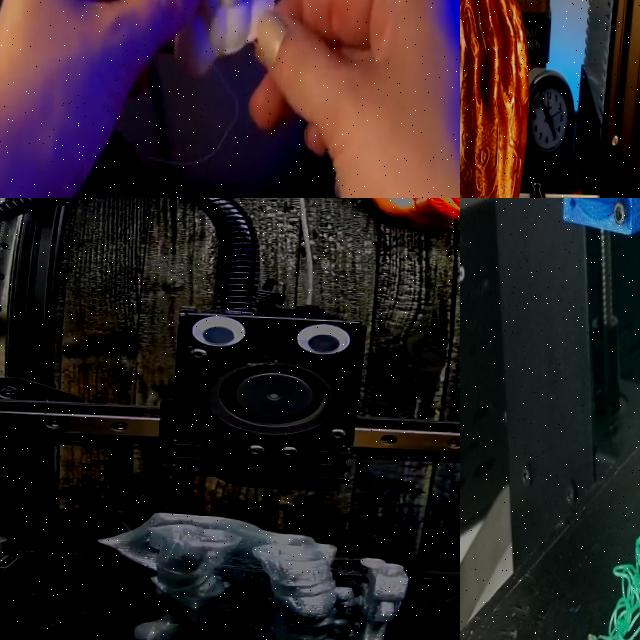spaghetti: (587, 532, 640, 640)
